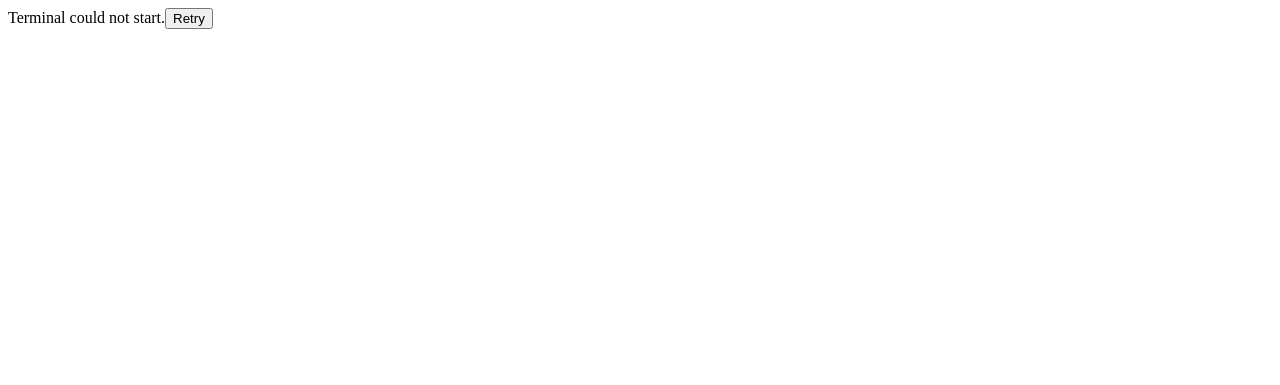
Scenario: a terminal view's session › starts again when Retry is pressed after a start that failed
Click the button "Retry" at (189, 18), box x1=165 y1=8 x2=213 y2=29
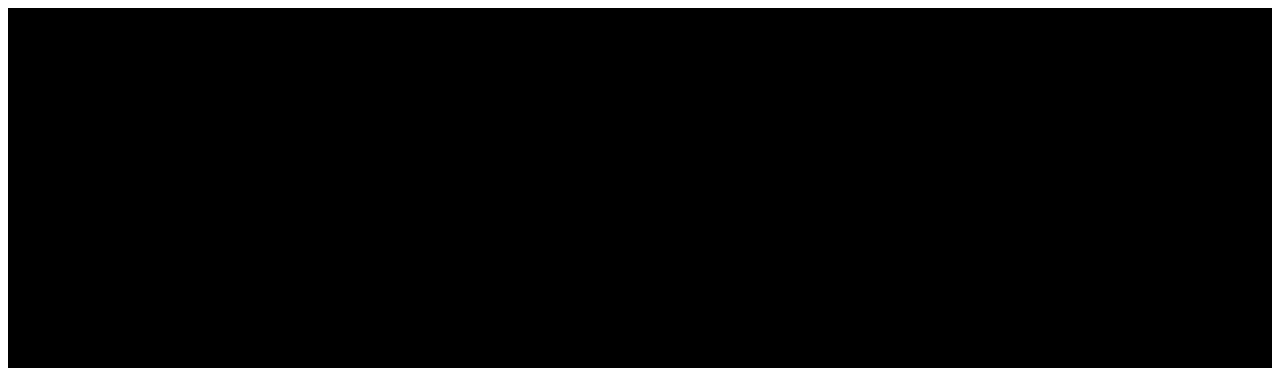
Expected: the message "Terminal could not start. Retry" is gone
